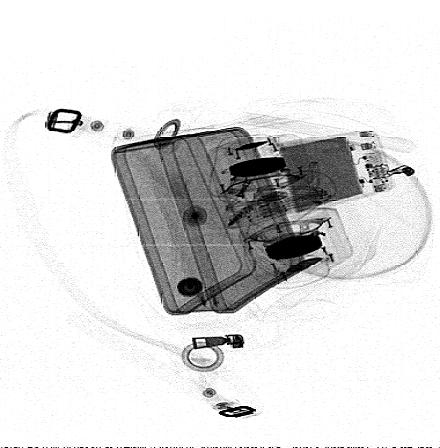Powerbank: (267, 129, 396, 216)
